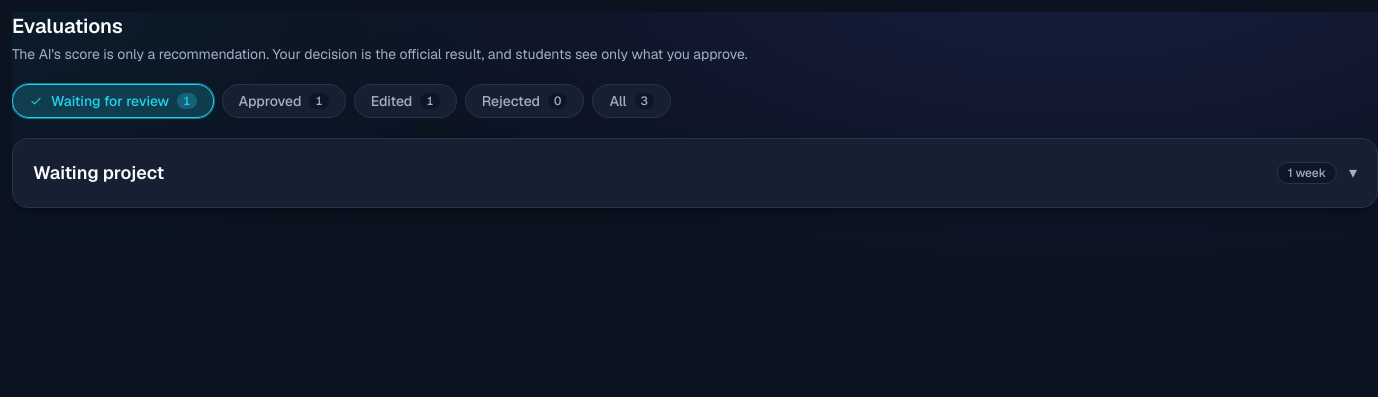
Test: FacultyQueue: filters › changes the filter, shows only that status and marks the active filter
The width and height of the screenshot is (1378, 397).
Click the button "Approved 1" at {"x": 284, "y": 101}, box [222,84,346,118]
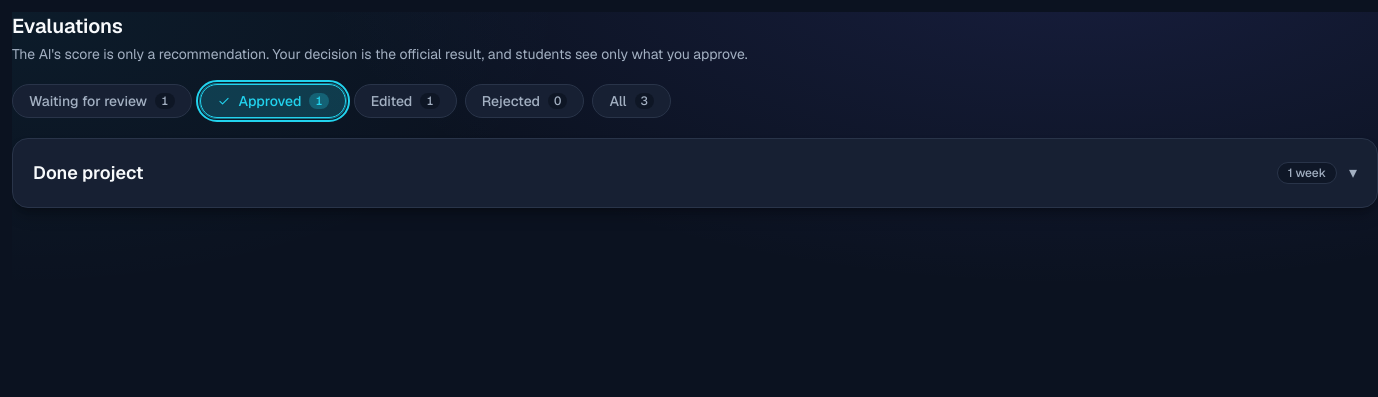
Now the text "Done project" is shown, box [33,159,144,187]
Now the heading "Waiting project" is gone
Click the button "All 3" at {"x": 632, "y": 101}, box [592,84,671,118]
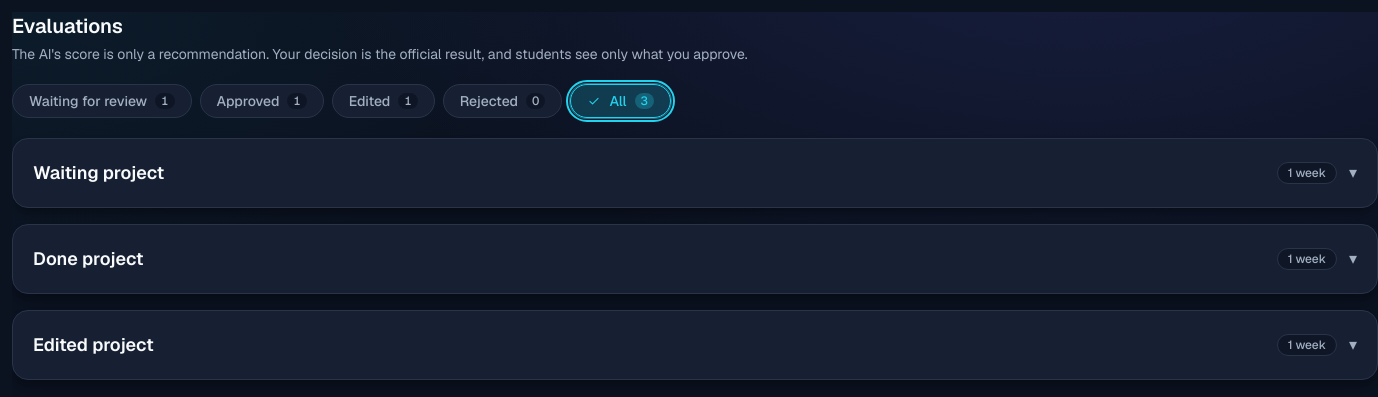
Now the list item "Waiting project 1 week ▾" is shown, box [12,138,1377,208]
Now the text "Edited project" is shown, box [33,331,154,359]
